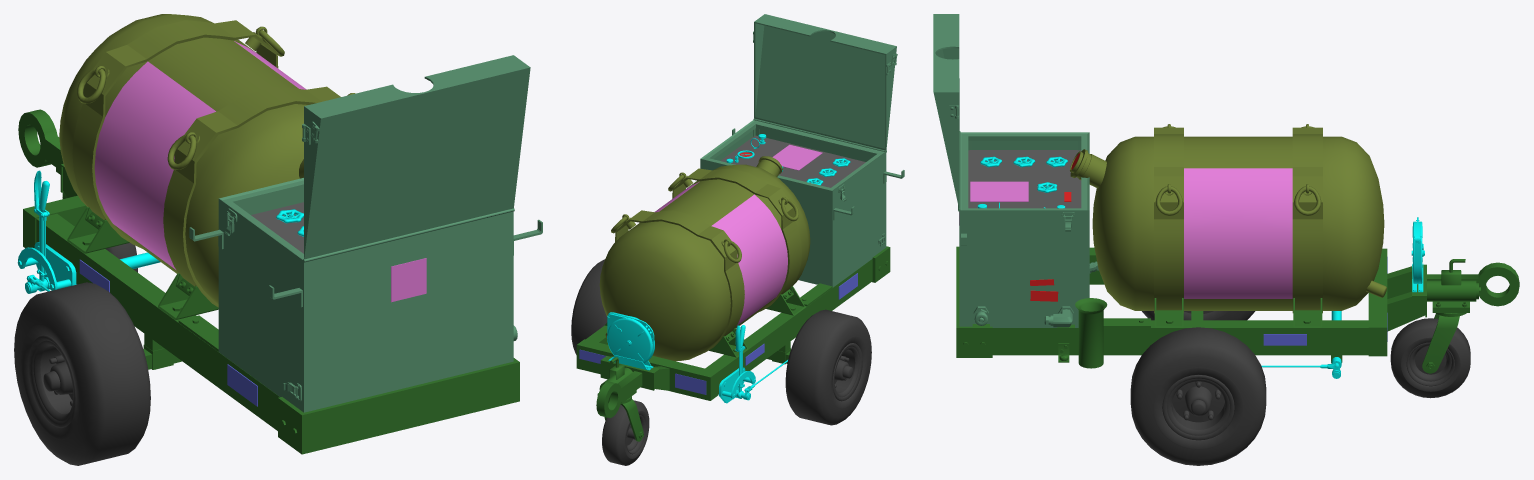
Rendered from LOXCartFinal.fbx.
The picture shows the model from 3 angles, left to right: view 1: azimuth 30°, elevation 25°; view 2: azimuth 150°, elevation 25°; view 3: azimuth 270°, elevation 25°; orthographic projection. The views are drawn at different scales.
Visible parts, largest first — view 1: Bin, Tank, Bin Lid, Frame, Right Wheel, LeverBase, Lever Axle, Left Back Ring, Left Front Ring; view 2: Tank, Bin Lid, Bin, Frame, Right Wheel, Front Wheel, Grounding Reel, Left Wheel, LeverBase, Front Wheel Swivel; view 3: Tank, Bin, Frame, Left Wheel, Front Wheel, Bin Lid, Hose Tube, Front Wheel Swivel, Grounding Reel, Right Wheel.
Boxes of the visible parts, x1,y1,x2,y2 form: Bin: [189, 178, 542, 412]; Tank: [59, 14, 355, 307]; Bin Lid: [302, 55, 530, 262]; Frame: [18, 109, 519, 454]; Right Wheel: [14, 282, 150, 465]; LeverBase: [17, 242, 76, 290]; Lever Axle: [25, 252, 160, 293]; Left Back Ring: [167, 134, 196, 170]; Left Front Ring: [77, 68, 106, 103]; Tank: [599, 156, 810, 361]; Bin Lid: [753, 14, 897, 152]; Bin: [700, 120, 904, 287]; Frame: [576, 246, 890, 417]; Right Wheel: [785, 309, 871, 425]; Front Wheel: [602, 400, 649, 465]; Grounding Reel: [607, 312, 654, 363]; Left Wheel: [571, 259, 607, 354]; LeverBase: [718, 367, 755, 403]; Front Wheel Swivel: [604, 396, 643, 441]; Tank: [1070, 124, 1386, 313]; Bin: [959, 132, 1098, 327]; Frame: [956, 246, 1519, 363]; Left Wheel: [1130, 327, 1266, 465]; Front Wheel: [1390, 318, 1470, 398]; Bin Lid: [933, 14, 960, 211]; Hose Tube: [1075, 298, 1107, 368]; Front Wheel Swivel: [1422, 313, 1466, 373]; Grounding Reel: [1411, 217, 1424, 284]; Right Wheel: [1142, 311, 1255, 320].
Bounding box in the file's own units: 134 × 139 × 216.
